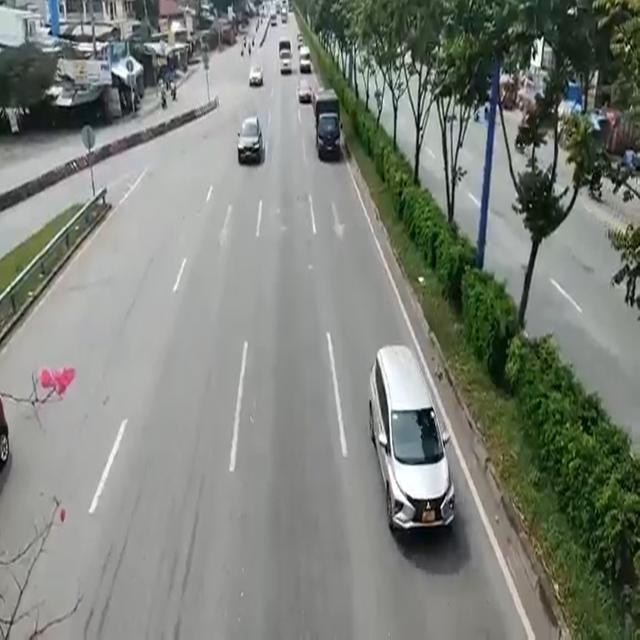car: (364, 354, 449, 531), (240, 117, 259, 160)
truck: (316, 90, 339, 153)
